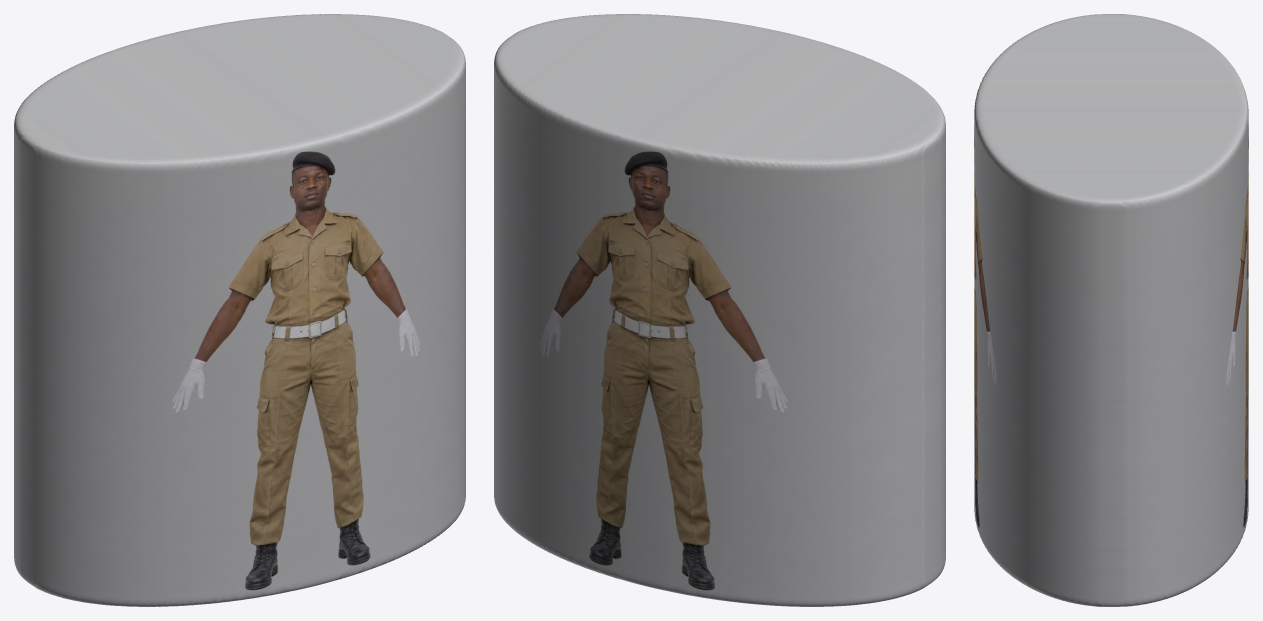
File: pnj_policier.glb
3 views of the same model, side by side, from view 1: azimuth 30°, elevation 25°; view 2: azimuth 150°, elevation 25°; view 3: azimuth 270°, elevation 25° (orthographic). The views are drawn at different scales.
Parts seen in each view (by area): view 1: pnj_policier; view 2: pnj_policier; view 3: pnj_policier.
Boxes of the visible parts, x1,y1,x2,y2 form: pnj_policier: (14,14,465,606); pnj_policier: (494,14,945,606); pnj_policier: (974,14,1248,606).
Size of the model in its own units: 1.8 by 1.8 by 1.1.
Materials: 1 (1 with a texture image).
